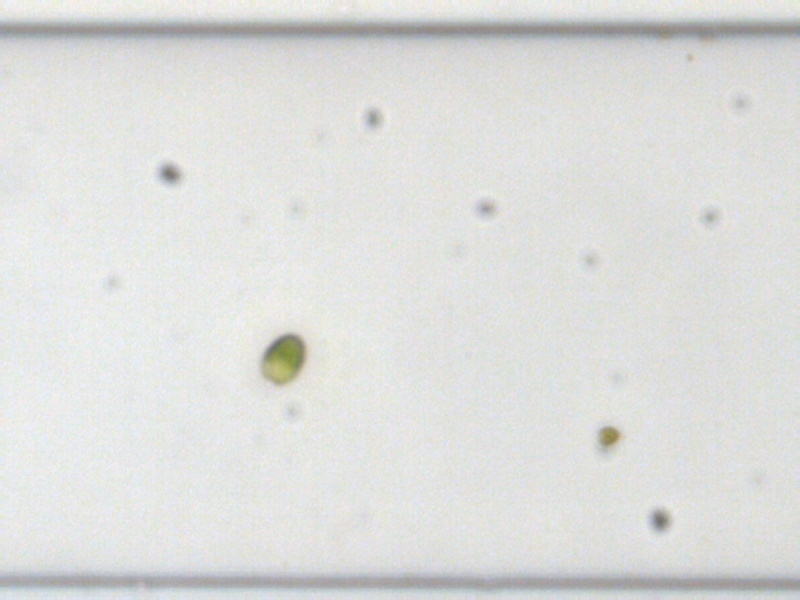Chlorella: (594, 423, 620, 447)
Platymonas: (255, 327, 307, 388)
